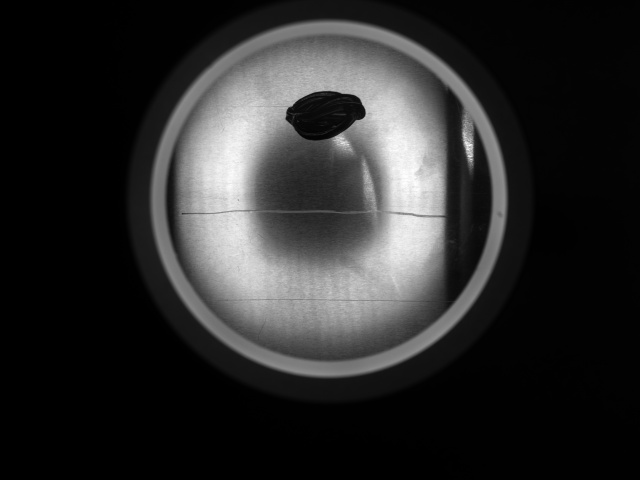ca_shang: (179, 205, 478, 222), (212, 293, 454, 307)
zang_wu: (285, 88, 366, 142)
